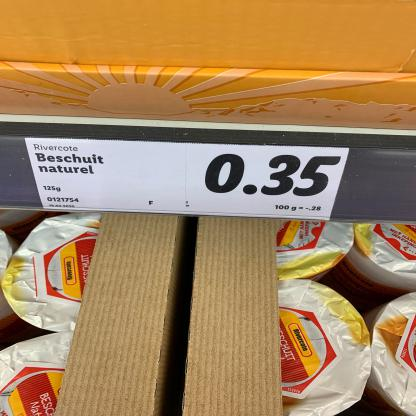prtg: (26, 139, 350, 221)
